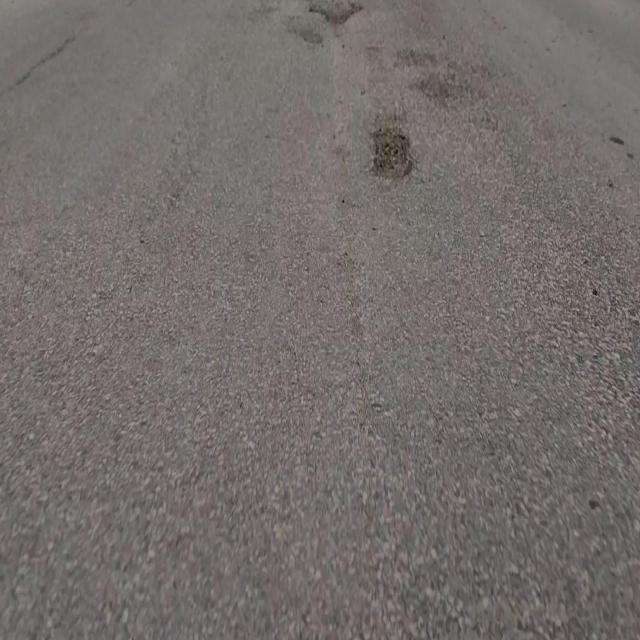Potholes: (368, 126, 414, 187)
